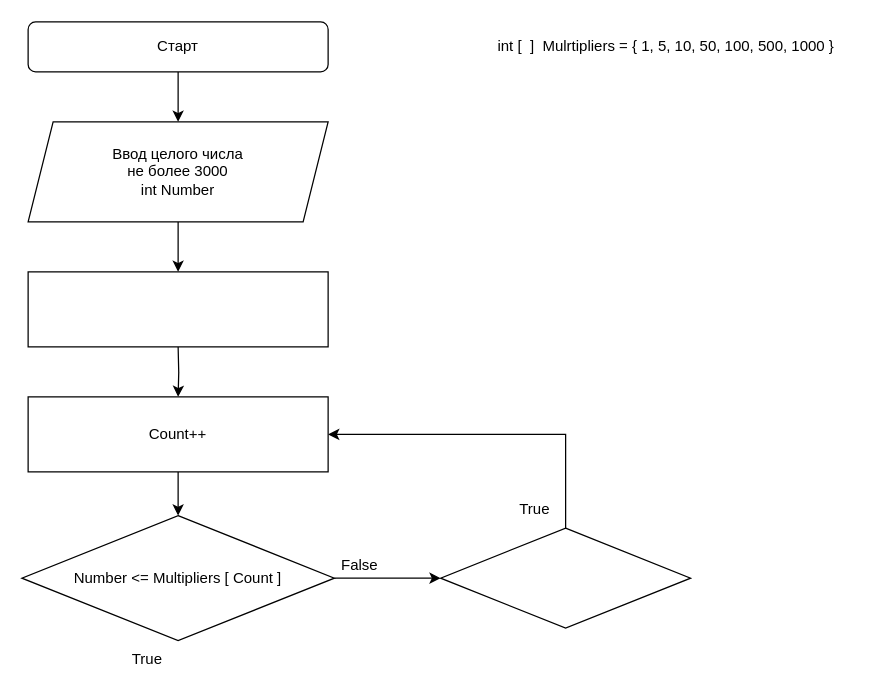
The diagram is 869 pixels wide and 700 high, and some of its shapes have lost their labels. Here are the shapes that lost their labels. From the top down, the box of each, then its label:
(27, 271, 328, 347): int Num = 0 int Count = -1
(439, 527, 691, 628): Count < Multipliers.Length
